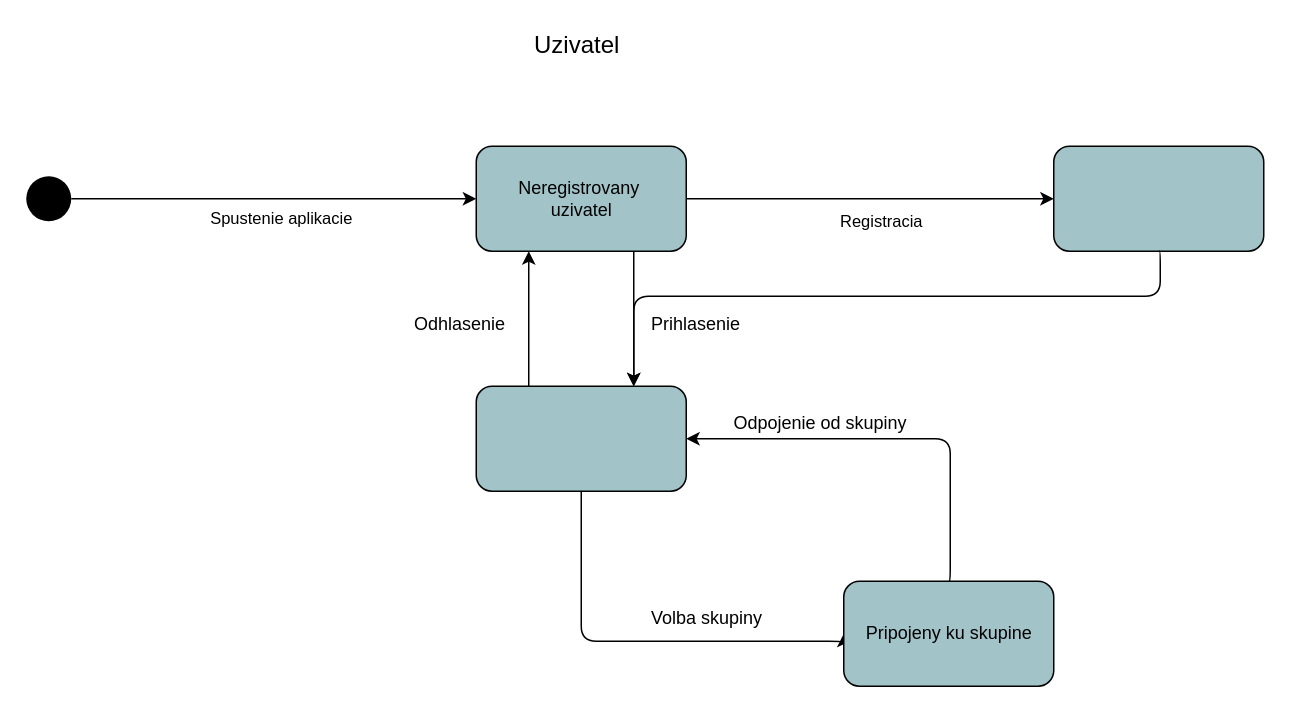
The diagram is 1290 pixels wide and 713 high, and some of its shapes have lost their labels. The centre of each missing label's shape, as x and y in pixels:
"Prihlaseny uzivatel" belongs at point 580,438.
"Registrovany uzivatel" belongs at point 1158,198.
